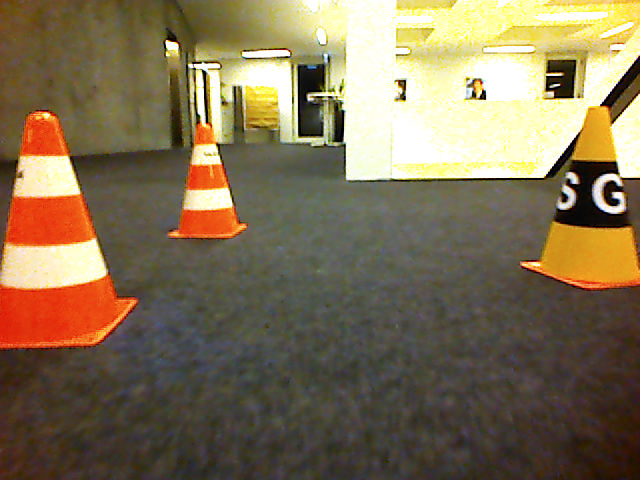orangeconesmall: (1, 106, 141, 351), (165, 122, 250, 240)
yellowcone: (517, 104, 640, 293)
